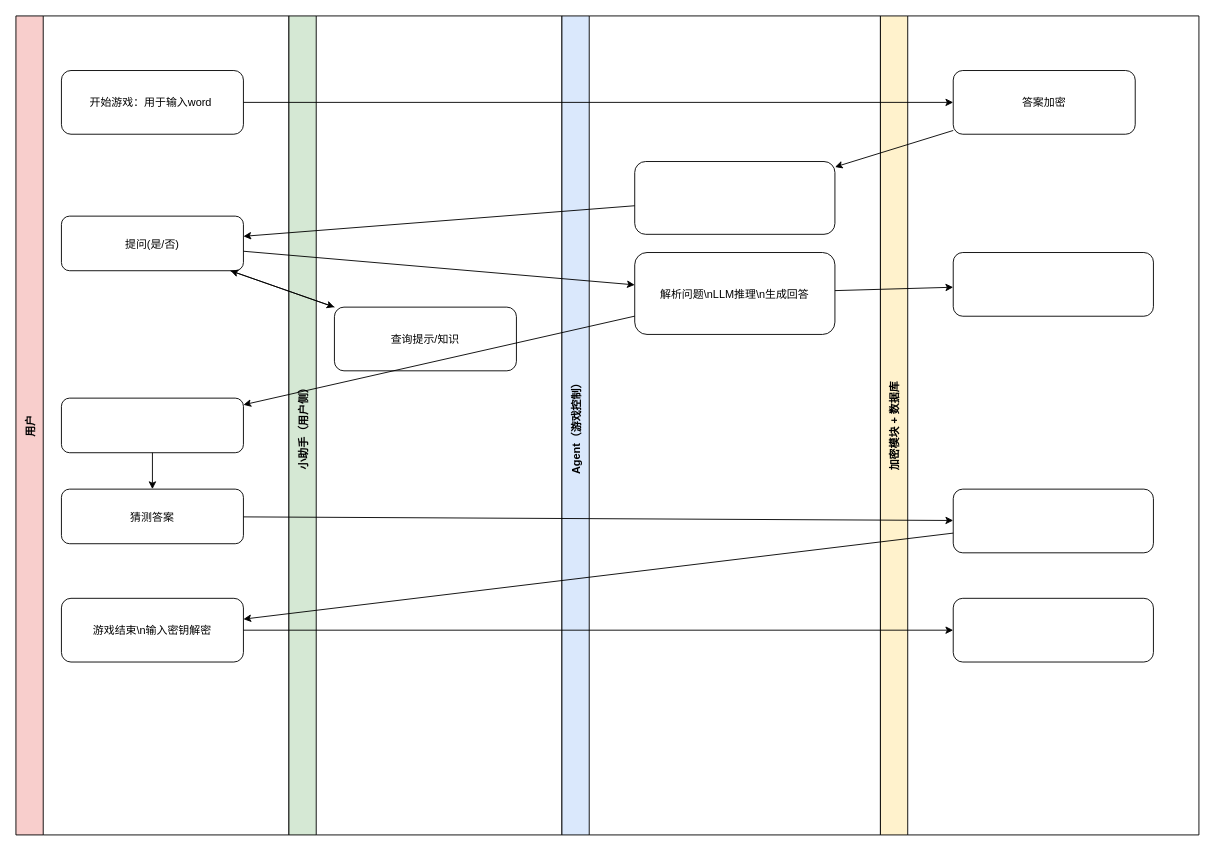
This 1215x851 diagram has some shape labels left out. Here are the shapes that lost their labels. From the top down, the centre of each, then its label:
At point 734,197: "初始化游戏\n(生成Agent答案+上下文)".
At point 1052,284: "记录轮次/上下文".
At point 152,425: "返回 是/否".
At point 1052,520: "校验答案(密文比对)".
At point 1052,629: "解密答案".
